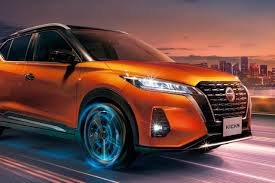mobil: (1, 27, 256, 163)
